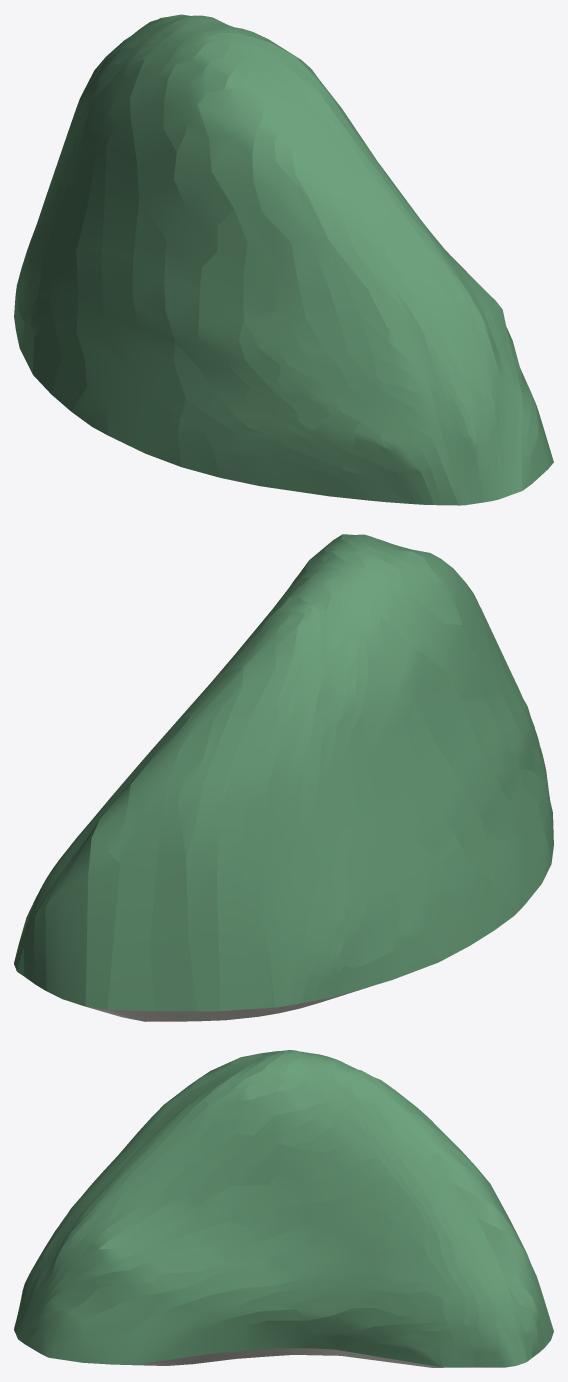
The model's file is island_asian_G.fbx.
3 views of the same model, one above another, from view 1: azimuth 30°, elevation 25°; view 2: azimuth 150°, elevation 25°; view 3: azimuth 270°, elevation 25° (orthographic). The views are drawn at different scales.
Visible parts, largest first — view 1: island_asian_G; view 2: island_asian_G; view 3: island_asian_G.
Part boxes in pixels (x1,y1,x2,y2): island_asian_G: (14,14,553,505); island_asian_G: (14,534,553,1021); island_asian_G: (14,1050,553,1367).
Size of the model in its own units: 1894 by 2003 by 3690.
